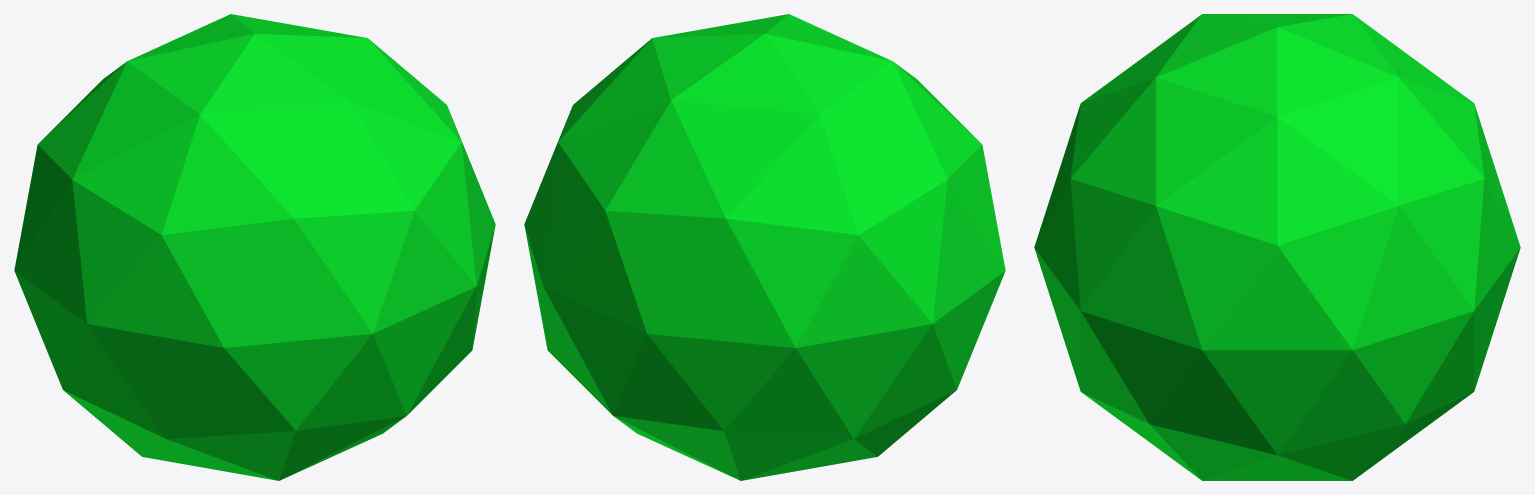
The model's file is 治疗弹.fbx.
The picture shows the model from 3 angles, left to right: view 1: azimuth 30°, elevation 25°; view 2: azimuth 150°, elevation 25°; view 3: azimuth 270°, elevation 25°; orthographic projection. The views are drawn at different scales.
Visible parts, largest first — view 1: 棱角球; view 2: 棱角球; view 3: 棱角球.
Boxes of the visible parts, <box> form: 棱角球: <box>14,14,495,480</box>; 棱角球: <box>524,14,1005,480</box>; 棱角球: <box>1034,14,1520,480</box>.
Bounding box in the file's own units: 10 × 10 × 10.
